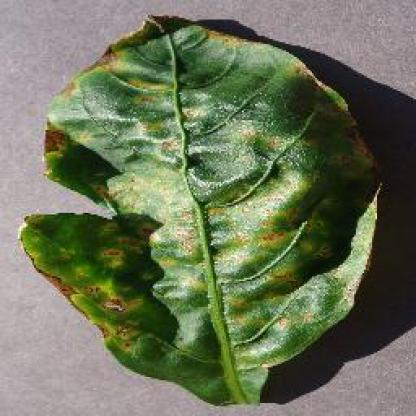bad leaf: (3, 5, 399, 412)
